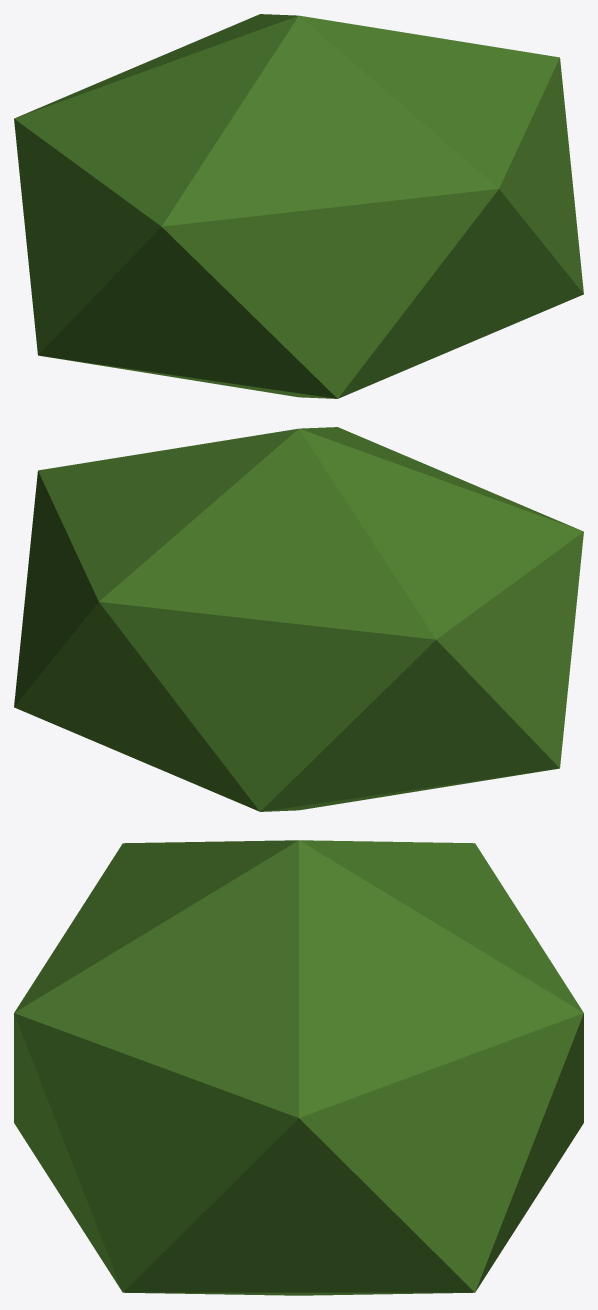
Rendered from bush_dense.glb.
3 views of the same model, one above another, from view 1: azimuth 30°, elevation 25°; view 2: azimuth 150°, elevation 25°; view 3: azimuth 270°, elevation 25° (orthographic). The views are drawn at different scales.
Parts seen in each view (by area): view 1: BushDense; view 2: BushDense; view 3: BushDense.
Boxes of the visible parts, left/top/right/bottom form: BushDense: left=14, top=14, right=583, bottom=398; BushDense: left=14, top=427, right=583, bottom=811; BushDense: left=14, top=840, right=583, bottom=1295.
Bounding box in the file's own units: 2.15 × 1.5 × 1.7.
